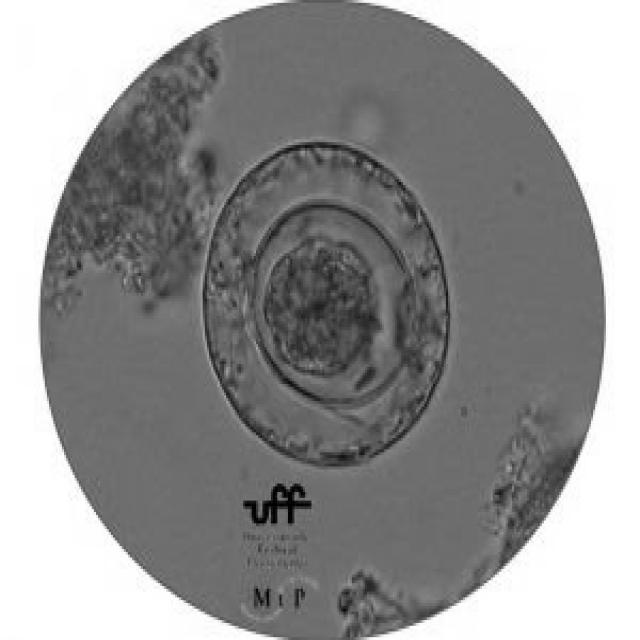Hymenolepis: (196, 140, 459, 472)
